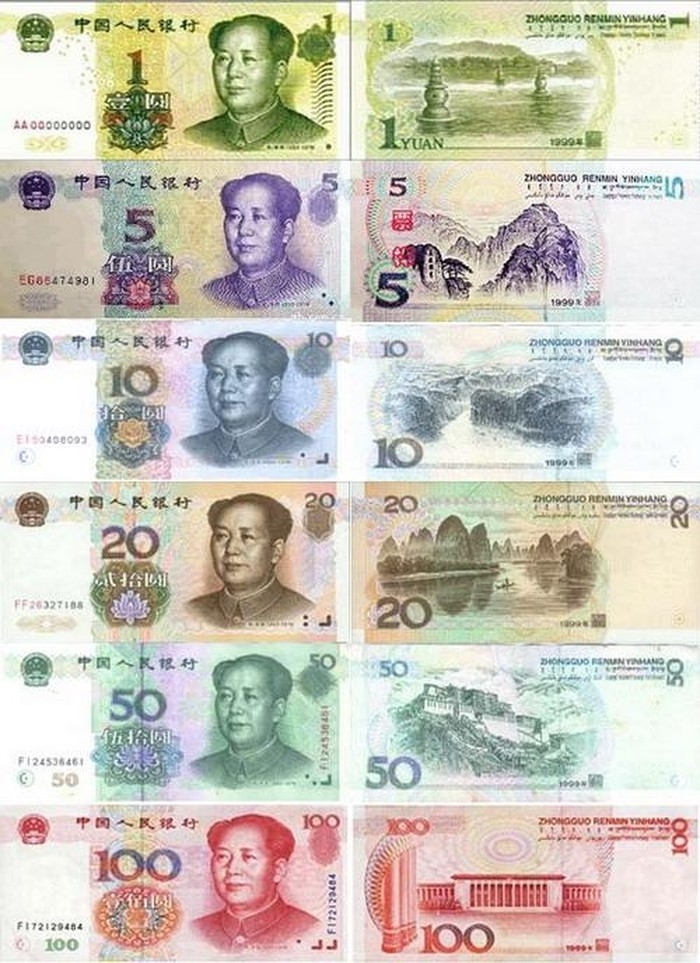rmb: (354, 167, 697, 331), (350, 647, 698, 808), (2, 323, 348, 483), (351, 4, 696, 160), (360, 489, 700, 647), (6, 805, 345, 963), (2, 161, 346, 316), (356, 329, 697, 483), (3, 489, 344, 641), (2, 3, 346, 153), (355, 814, 698, 963), (2, 647, 339, 794)
